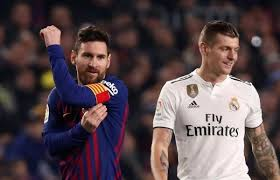barcelona: (27, 19, 129, 180)
realmadrid: (141, 23, 279, 180)
